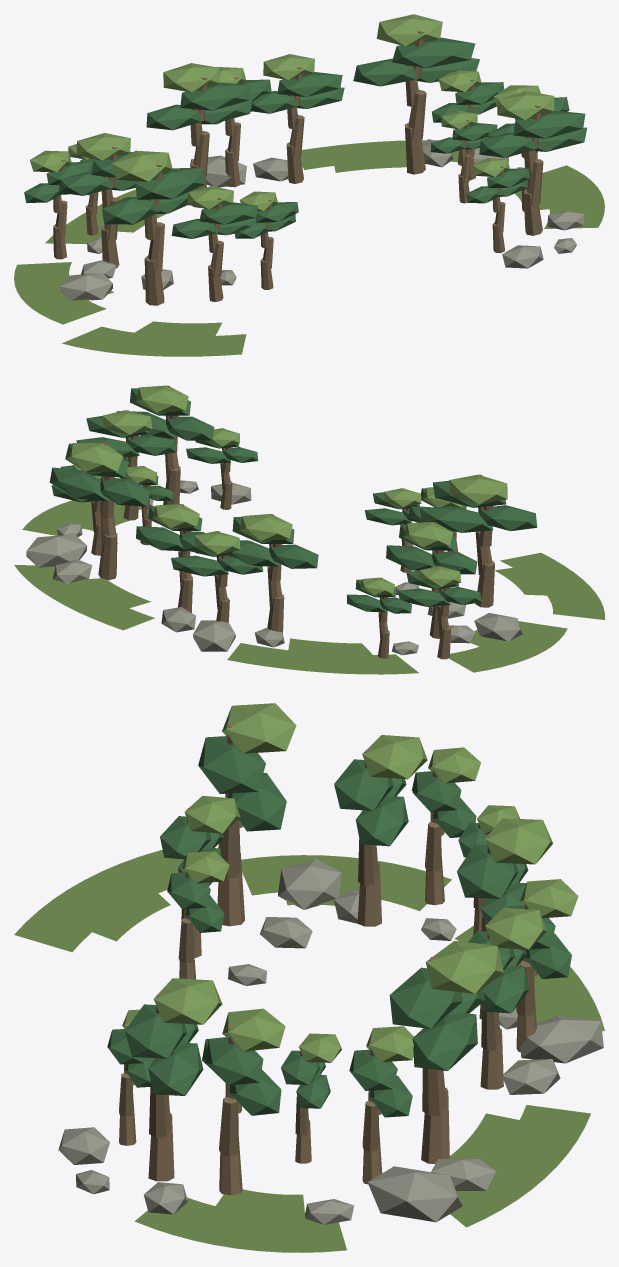
The model's file is saihoji-concealment-v1.glb.
3 renders of one model, top to bottom at view 1: azimuth 30°, elevation 25°; view 2: azimuth 150°, elevation 25°; view 3: azimuth 270°, elevation 25°, orthographic. The views are drawn at different scales.
Visible parts, largest first — view 1: dry-cascade_pine_0, moss-entry_pine_0, moss-islands_pine_1, master-stones_pine_0, master-stones_pine_2, moss-entry_pine_1, return-view_pine_0, moss-entry_moss_bank, return-view_pine_1, return-view_moss_bank, moss-islands_pine_2, moss-entry_pine_2 (+18 smaller); view 2: moss-entry_pine_0, dry-cascade_pine_0, master-stones_pine_0, moss-islands_pine_1, return-view_pine_0, master-stones_pine_1, moss-islands_pine_0, return-view_pine_1, master-stones_moss_bank, master-stones_pine_2, dry-cascade_moss_bank, moss-entry_moss_bank (+21 smaller); view 3: dry-cascade_pine_0, moss-entry_pine_0, moss-islands_pine_1, return-view_pine_0, moss-islands_pine_0, master-stones_pine_2, master-stones_pine_0, dry-cascade_moss_bank, dry-cascade_pine_1, return-view_pine_1, moss-islands_moss_bank, moss-entry_moss_bank (+20 smaller).
Boxes of the visible parts, x1=… form: dry-cascade_pine_0: x1=353, y1=14, x2=479, y2=174; moss-entry_pine_0: x1=102, y1=150, x2=205, y2=305; moss-islands_pine_1: x1=479, y1=91, x2=586, y2=235; master-stones_pine_0: x1=146, y1=63, x2=252, y2=207; master-stones_pine_2: x1=250, y1=54, x2=344, y2=183; moss-entry_pine_1: x1=171, y1=186, x2=258, y2=301; return-view_pine_0: x1=59, y1=133, x2=138, y2=268; moss-entry_moss_bank: x1=62, y1=326, x2=246, y2=356; return-view_pine_1: x1=24, y1=150, x2=93, y2=259; return-view_moss_bank: x1=14, y1=262, x2=106, y2=324; moss-islands_pine_2: x1=466, y1=158, x2=529, y2=253; moss-entry_pine_2: x1=235, y1=191, x2=298, y2=289; moss-entry_pine_0: x1=419, y1=474, x2=537, y2=607; dry-cascade_pine_0: x1=49, y1=443, x2=150, y2=580; master-stones_pine_0: x1=228, y1=514, x2=318, y2=633; moss-islands_pine_1: x1=117, y1=385, x2=214, y2=504; return-view_pine_0: x1=386, y1=522, x2=477, y2=638; master-stones_pine_1: x1=171, y1=531, x2=263, y2=622; moss-islands_pine_0: x1=76, y1=410, x2=176, y2=520; return-view_pine_1: x1=397, y1=566, x2=481, y2=659; master-stones_moss_bank: x1=227, y1=643, x2=418, y2=674; master-stones_pine_2: x1=136, y1=504, x2=205, y2=612; dry-cascade_moss_bank: x1=14, y1=565, x2=154, y2=630; moss-entry_moss_bank: x1=500, y1=552, x2=604, y2=619; dry-cascade_pine_0: x1=389, y1=940, x2=503, y2=1163; moss-entry_pine_0: x1=198, y1=703, x2=296, y2=926; moss-islands_pine_1: x1=125, y1=978, x2=222, y2=1181; return-view_pine_0: x1=334, y1=735, x2=427, y2=926; moss-islands_pine_0: x1=202, y1=1008, x2=285, y2=1195; master-stones_pine_2: x1=468, y1=907, x2=546, y2=1089; master-stones_pine_0: x1=457, y1=818, x2=552, y2=1019; dry-cascade_moss_bank: x1=450, y1=1105, x2=590, y2=1227; dry-cascade_pine_1: x1=349, y1=1026, x2=413, y2=1184; return-view_pine_1: x1=412, y1=747, x2=480, y2=905; moss-islands_moss_bank: x1=134, y1=1197, x2=346, y2=1252; moss-entry_moss_bank: x1=14, y1=850, x2=183, y2=952.
Bounding box in the file's own units: 22.43 × 5.76 × 13.75.
